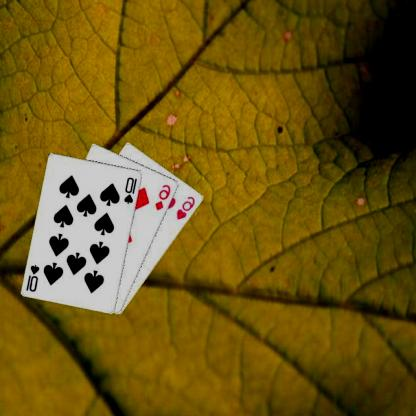10S: (123, 174, 141, 206), (25, 261, 43, 293)
6D: (154, 182, 174, 212)
6H: (176, 193, 198, 221)
